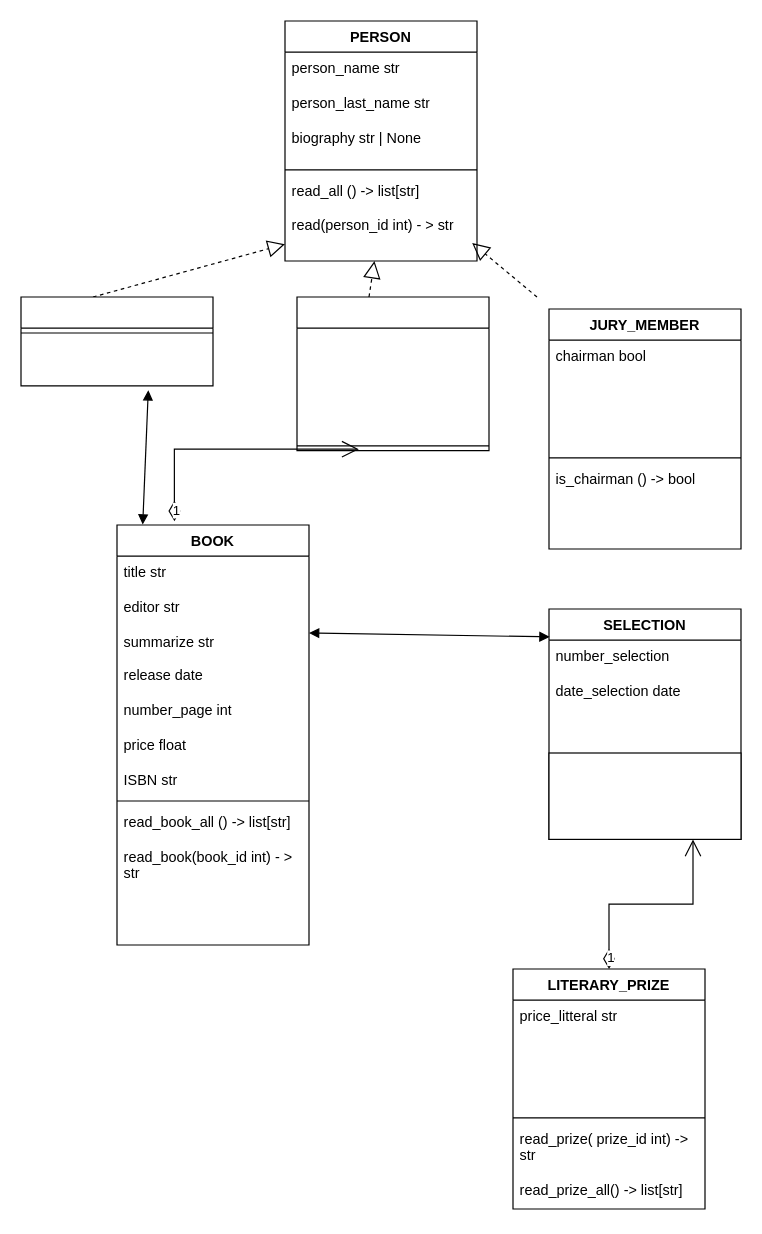
Some shapes in this 762 by 1234 pixel diagram are drawn without their labels. Each missing label, with the centre of its shape:
"AUTHOR" goes at (392,373).
"CHARACTER" goes at (116,341).
"read_selection(selection_id int) -> str read_all() -> list[str]" goes at (644,795).
